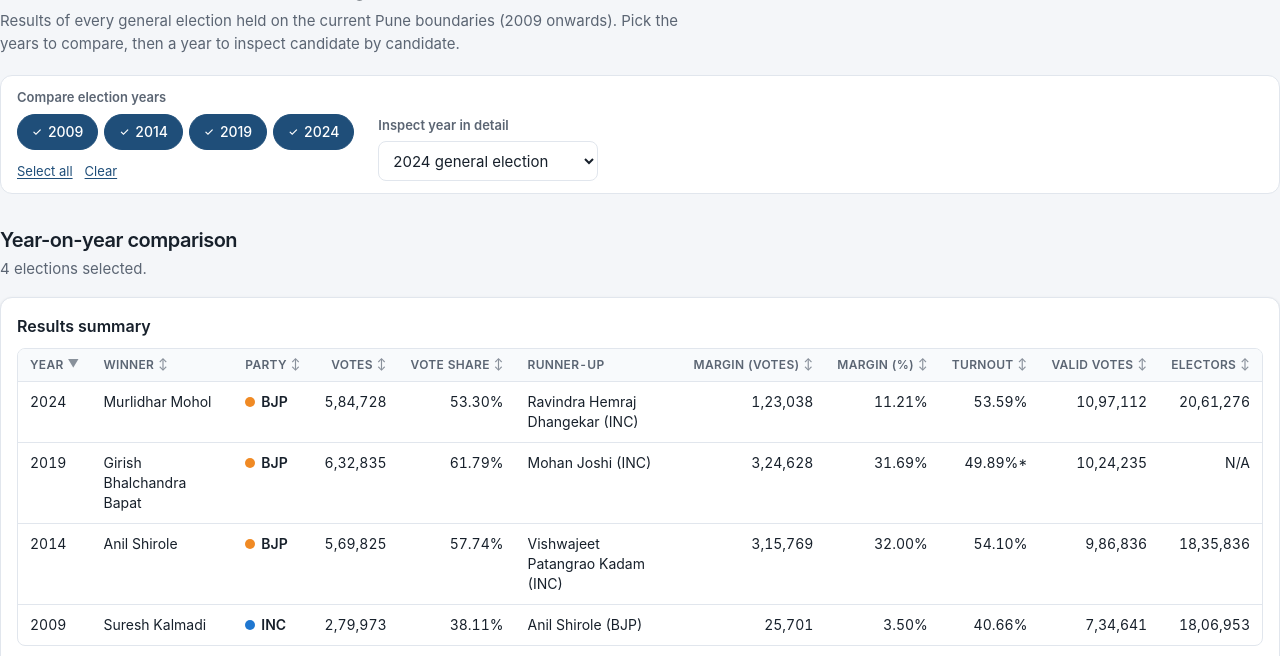
Test: Lok Sabha page (real data) › changing the focus year updates the KPI cards and candidate table
Select "2009 general election" in the dropdown labelled "Inspect year in detail": {"x": 488, "y": 161} [378,141,598,181]
(page scrolled)
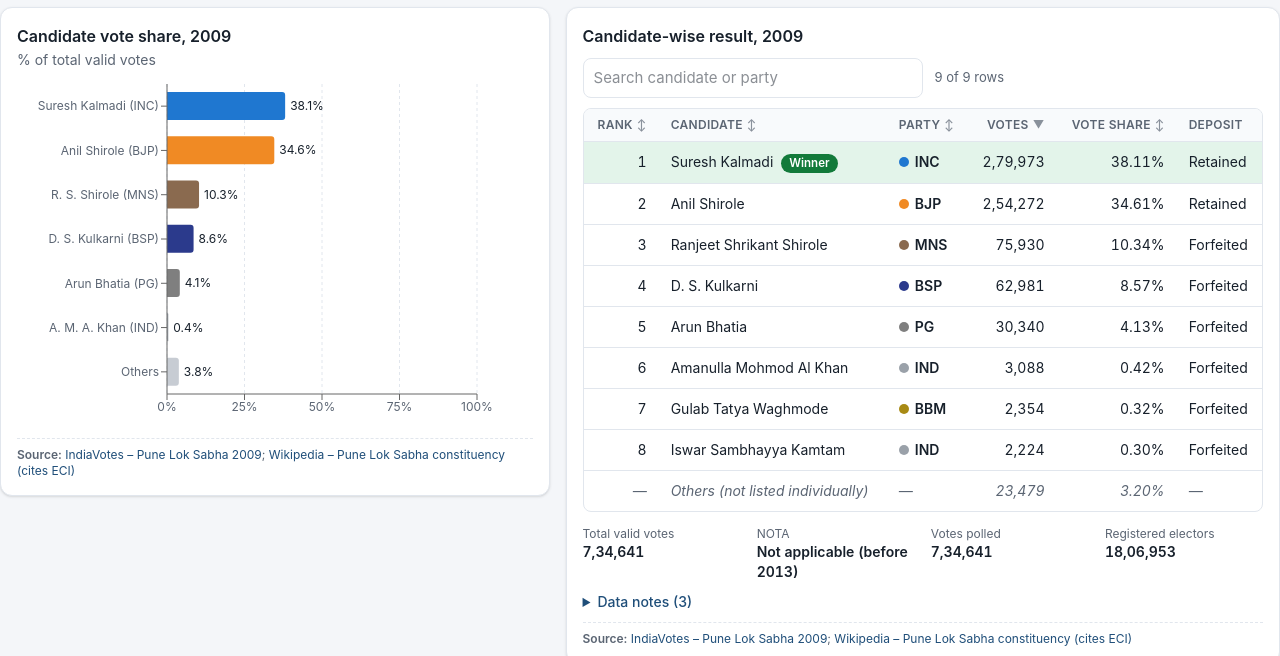
Result: the text "Anil Shirole" is shown at [671,195,745,212]
Result: the text "Not applicable (before 2013)" is shown at [757,542,915,582]
